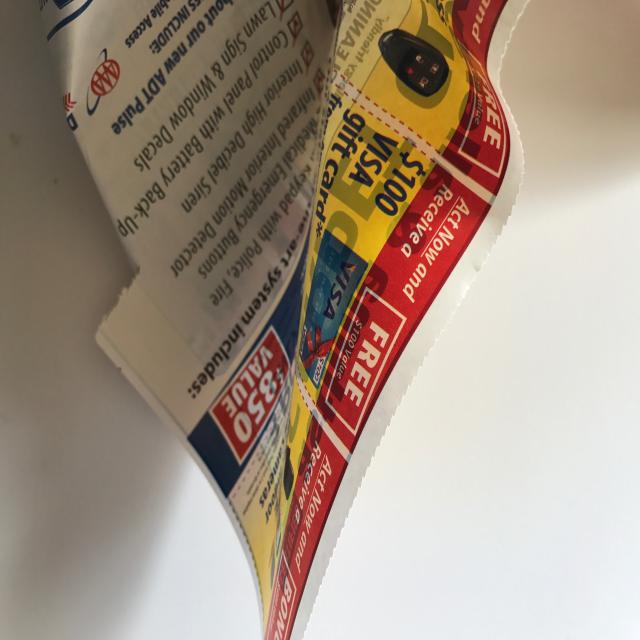paper: (3, 1, 638, 638)
